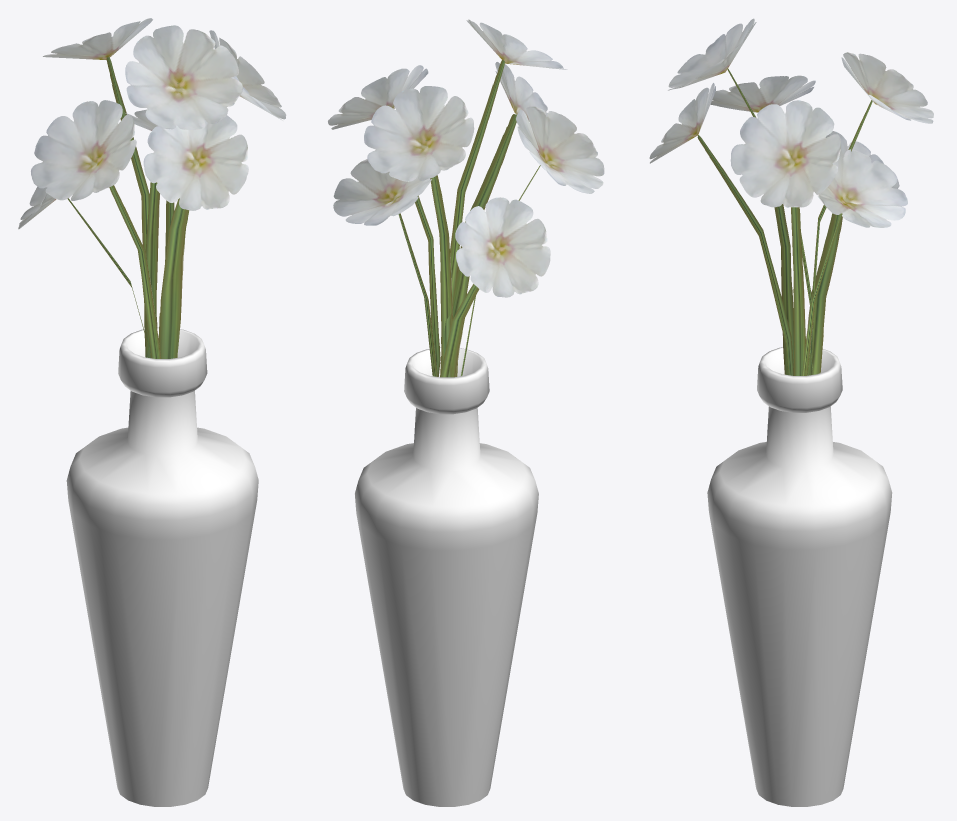
Rendered from SM_Potted_White2_Flower_D.fbx.
3 views of the same model, side by side, from view 1: azimuth 30°, elevation 25°; view 2: azimuth 150°, elevation 25°; view 3: azimuth 270°, elevation 25° (orthographic). The views are drawn at different scales.
Visible parts, largest first — view 1: SM_Potted_White2_Flower_D_LOD0; view 2: SM_Potted_White2_Flower_D_LOD0; view 3: SM_Potted_White2_Flower_D_LOD0.
Part boxes in pixels (left/top/right/bottom): SM_Potted_White2_Flower_D_LOD0: left=18, top=18, right=286, bottom=806; SM_Potted_White2_Flower_D_LOD0: left=328, top=19, right=604, bottom=806; SM_Potted_White2_Flower_D_LOD0: left=649, top=18, right=933, bottom=806.
Size of the model in its own units: 22.83 by 23.05 by 64.65.
2 materials, 1 textured.
